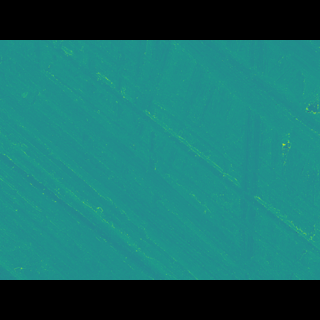Loch: (166, 68, 320, 163), (232, 118, 261, 235)
